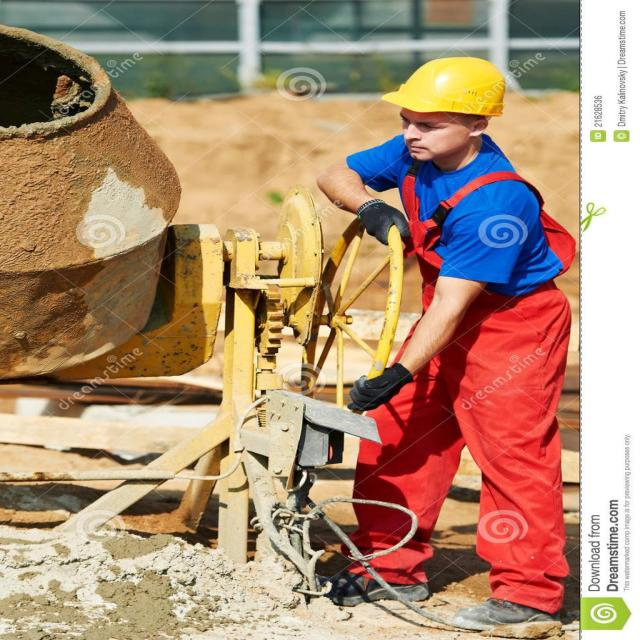Face: (395, 98, 482, 175)
